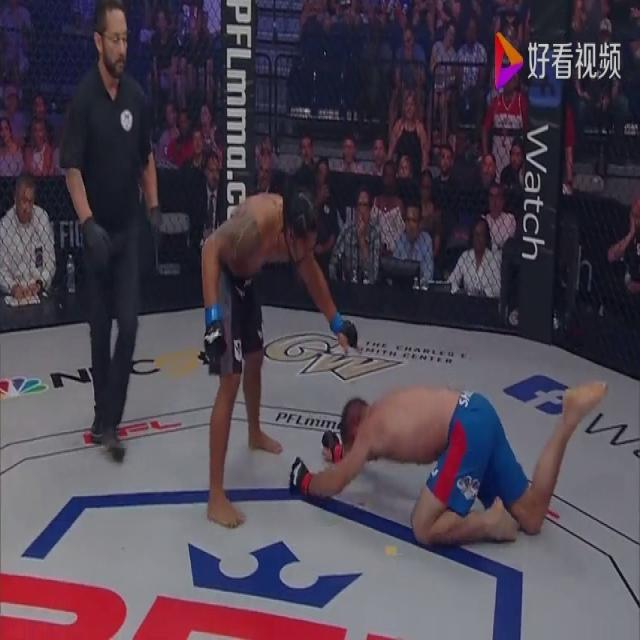fight: (191, 179, 610, 562)
non-fight: (56, 0, 178, 471)
